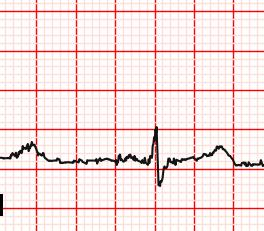LVH: (202, 141, 240, 171)
ST Depression: (140, 152, 175, 192)
